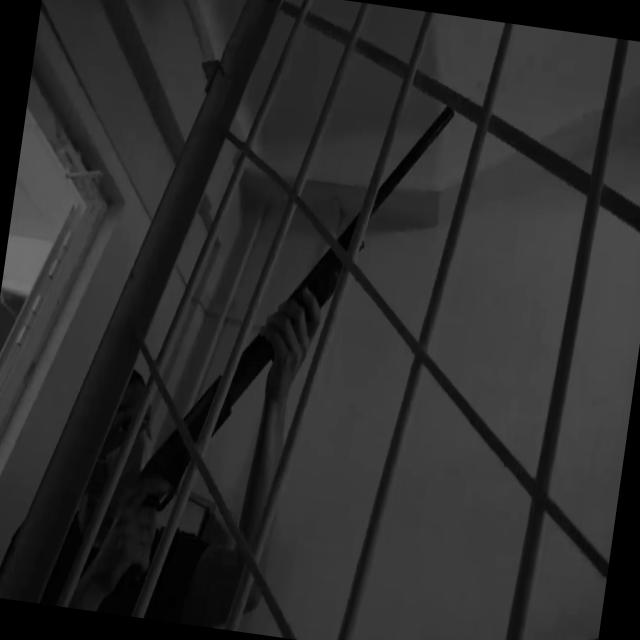gun: (106, 60, 458, 614)
person with a gun: (0, 42, 459, 640)
